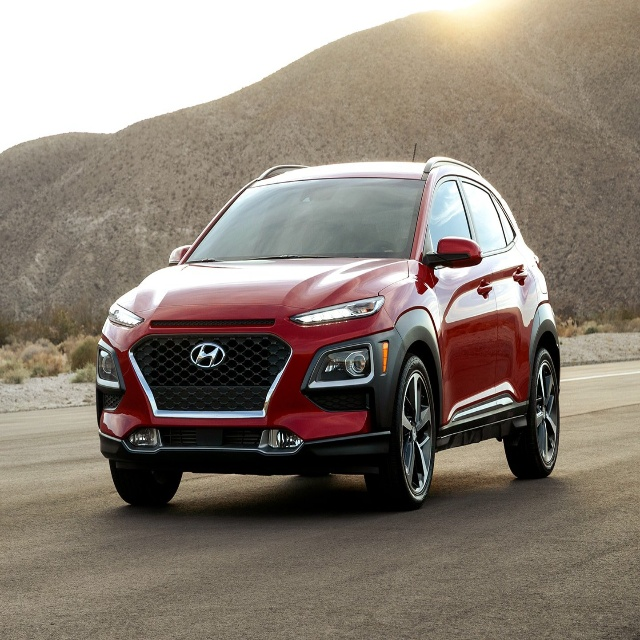Car: (95, 157, 561, 513)
